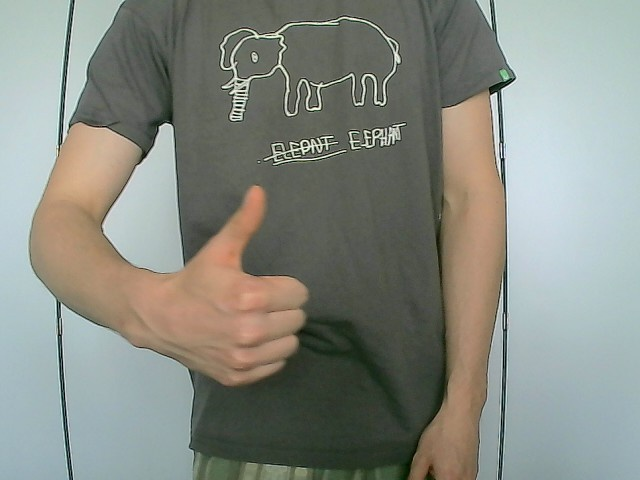up: (156, 183, 311, 389)
